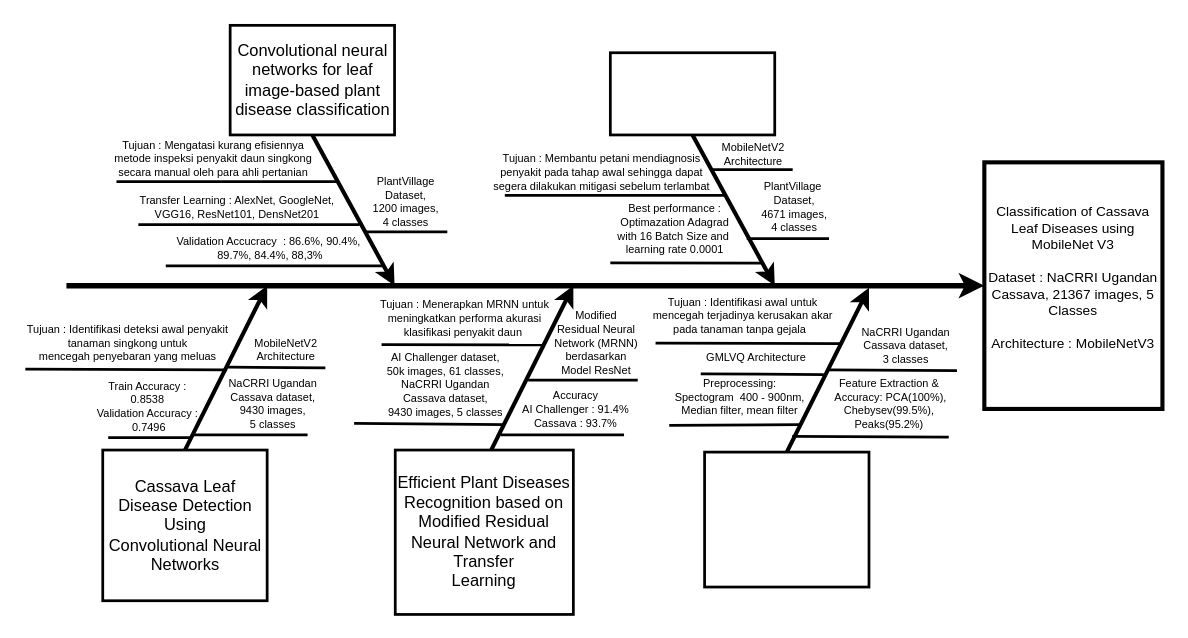
Some shapes in this 1188 by 638 pixel diagram are drawn without their labels. The centre of each missing label's shape, as x and y in pixels:
"Classification of tomato leaf diseases using MobileNet V2" belongs at point (691, 93).
"Matrix Relevance Learning From Spectral Data for Diagnosing Cassava Diseases" belongs at point (786, 519).
